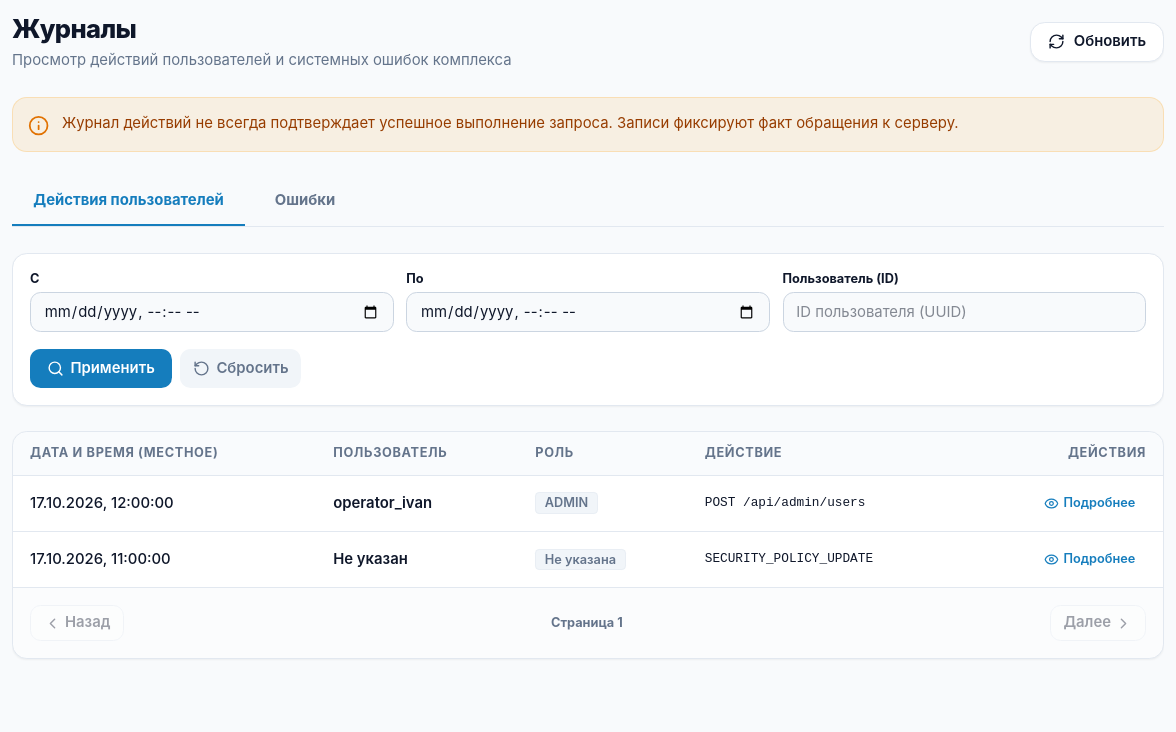
Test case: Admin Logs Page and Navigation › switches to 'Ошибки' tab and renders error logs without invented user or status
The image size is (1176, 732).
Check: the text "operator_ivan" is shown, box [316, 475, 518, 531]
Note: Click Errors tab
What coordinates should you click on to do the following:
click the tab "Ошибки"
I would click on:
 (305, 202)
Its box is [254, 178, 356, 226].
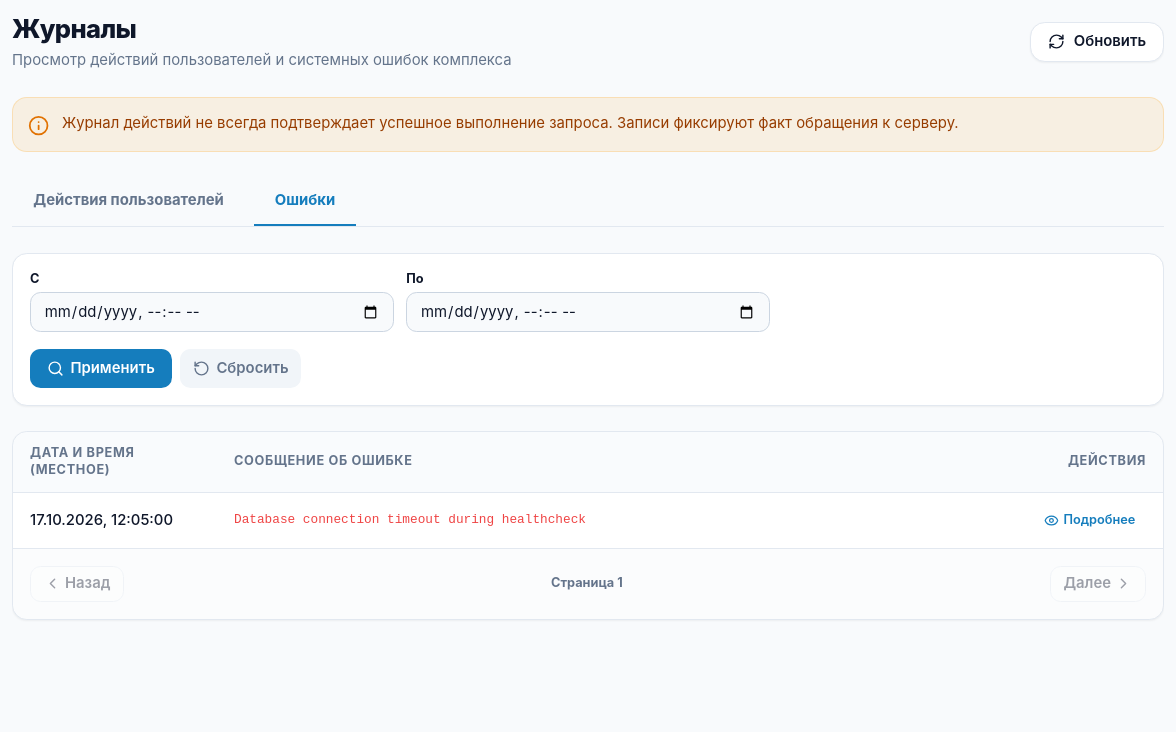
Check: the text "Database connection timeout during healthcheck" is shown, box [217, 492, 1017, 548]
Check: the text "Пользователь" is gone
